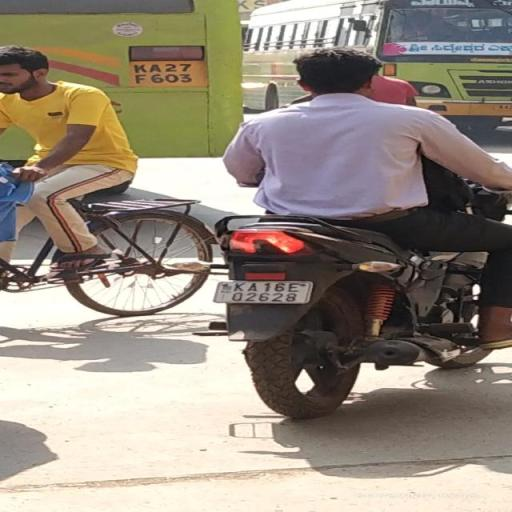bike: (212, 50, 511, 420)
numberplate: (214, 280, 312, 304)
withouthelmet: (297, 50, 374, 92)
